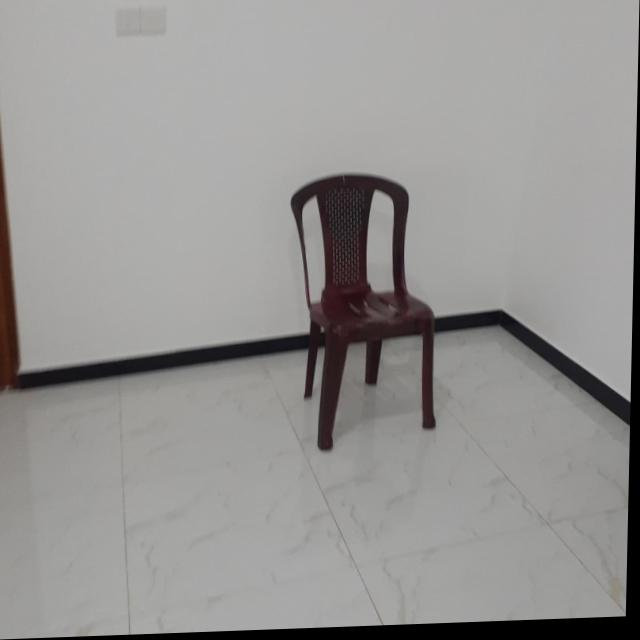Chair: (287, 172, 444, 455)
